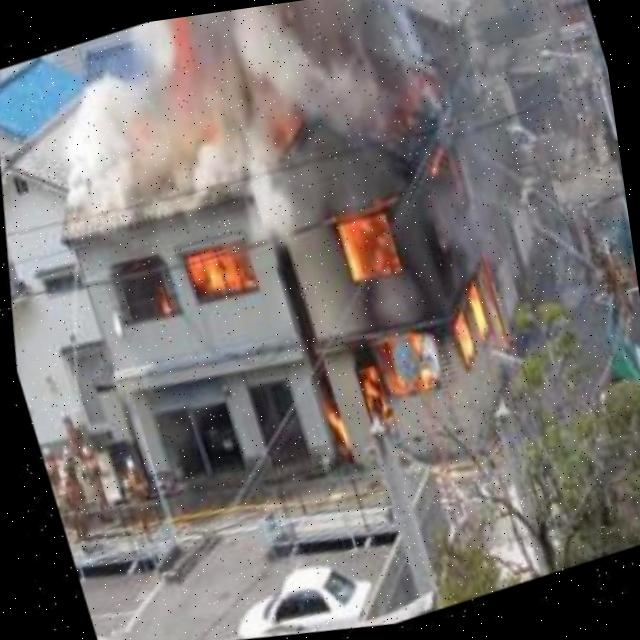fire: (270, 150, 554, 478), (146, 227, 260, 330), (153, 14, 219, 122)
